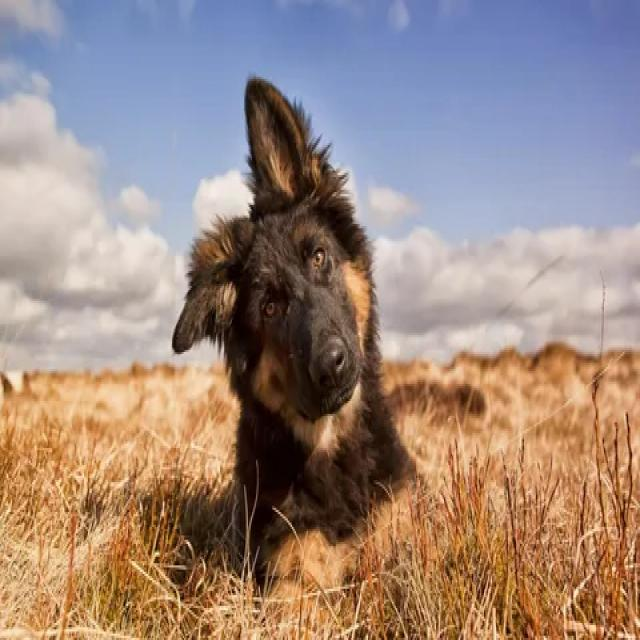Dog: (173, 71, 394, 528)
